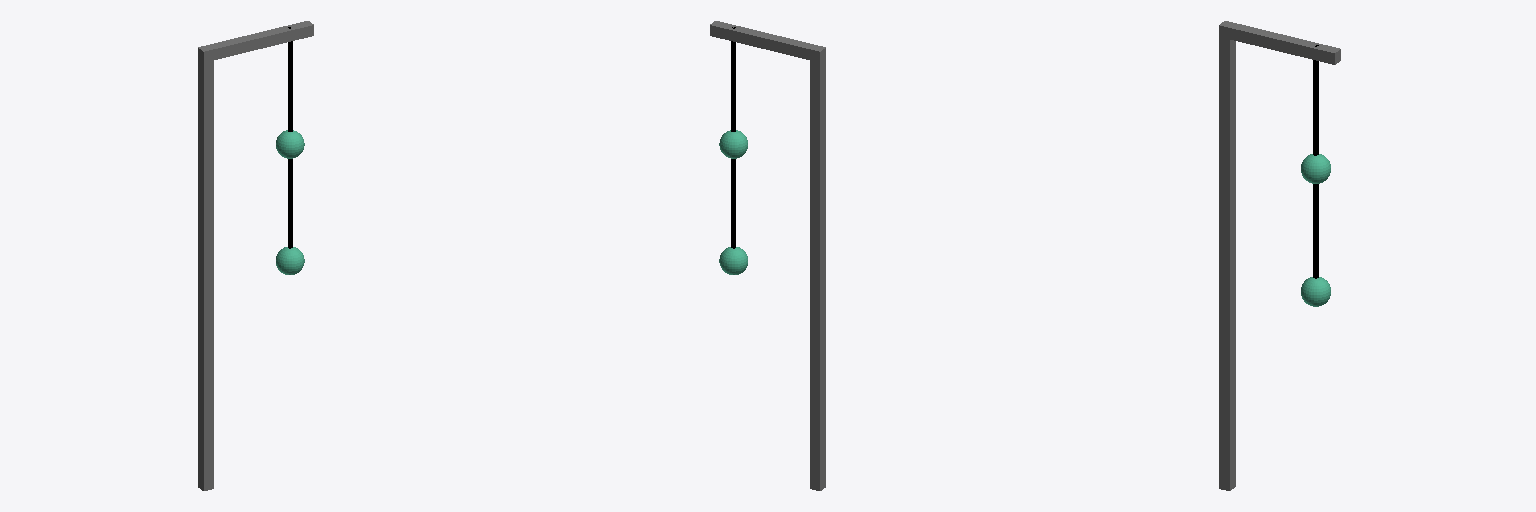
robot.urdf — camel_double_pendulum:
<?xml version="1.0" ?>
<robot name="camel_double_pendulum">

  <material name="black">
    <color rgba="0.0 0.0 0.0 1.0"/>
  </material>

  <material name="gray">
    <color rgba="0.5 0.5 0.5 1.0"/>
  </material>

  <material name="Aquamarine">
    <color rgba="0.364 0.733 0.608 1.0"/>
  </material>

  <material name="Aqua">
    <color rgba="0.0 0.733 0.733 1.0"/>
  </material>

  <link name="world"/>
  <joint name="fixed_world" type="fixed">
    <parent link="world"/>
    <child link="base"/>
  </joint>

  <link name="base">
    <visual>
      <origin rpy="0 0 0" xyz="0 0 0.5"/>
      <geometry>
        <box size="0.025 0.025 1.0"/>
      </geometry>
      <material name="gray"/>
    </visual>
    <visual>
      <origin rpy="0 0 0" xyz="0.125 0 0.9875"/>
      <geometry>
        <box size="0.25 0.025 0.025"/>
      </geometry>
      <material name="gray"/>
    </visual>

    <inertial>
      <mass value="10"/>
      <inertia ixx="1.0" ixy="0.0" ixz="0.0" iyy="1.0" iyz="0.0" izz="1.0"/>
    </inertial>
  </link>

  <joint name="top_roll" type="revolute">
    <origin rpy="0 0 0" xyz="0.2 0 1.0"/>
    <parent link="base"/>
    <child link="wire1"/>
    <axis xyz="1 0 0"/>
  </joint>

  <link name="wire1">
    <visual>
      <origin rpy="0 0 0" xyz="0 0 -0.125"/>
      <geometry>
        <box size="0.0075 0.0075 0.25"/>
      </geometry>
      <material name="black"/>
    </visual>
  </link>

  <joint name="fixed_ball1" type="fixed">
    <origin rpy="0 0 0" xyz="0 0 -0.265"/>
    <parent link="wire1"/>
    <child link="ball1"/>
  </joint>

  <link name="ball1">
    <visual>
    <origin rpy="0 0 0" xyz="0 0 0"/>
      <geometry>
        <sphere radius="0.03"/>
      </geometry>
      <material name="Aquamarine"/>
    </visual>

    <collision>
      <origin rpy="0 0 0" xyz="0 0 0"/>
      <geometry>
        <sphere radius="0.03"/>
      </geometry>
    </collision>

    <inertial>
      <mass value="0.5"/>
      <inertia ixx="1.0" ixy="0.0" ixz="0.0" iyy="1.0" iyz="0.0" izz="1.0"/>
    </inertial>
  </link>

  <joint name="bottom_roll" type="revolute">
    <origin rpy="0 0 0" xyz="0 0 0"/>
    <parent link="ball1"/>
    <child link="wire2"/>
    <axis xyz="1 0 0"/>
  </joint>

  <link name="wire2">
    <visual>
      <origin rpy="0 0 0" xyz="0 0 -0.125"/>
      <geometry>
        <box size="0.0075 0.0075 0.25"/>
      </geometry>
      <material name="black"/>
    </visual>
  </link>

  <joint name="fixed_ball2" type="fixed">
    <origin rpy="0 0 0" xyz="0 0 -0.265"/>
    <parent link="wire2"/>
    <child link="ball2"/>
  </joint>

  <link name="ball2">
    <visual>
    <origin rpy="0 0 0" xyz="0 0 0"/>
      <geometry>
        <sphere radius="0.03"/>
      </geometry>
      <material name="Aquamarine"/>
    </visual>

    <collision>
      <origin rpy="0 0 0" xyz="0 0 0"/>
      <geometry>
        <sphere radius="0.03"/>
      </geometry>
    </collision>

    <inertial>
      <mass value="0.5"/>
      <inertia ixx="1.0" ixy="0.0" ixz="0.0" iyy="1.0" iyz="0.0" izz="1.0"/>
    </inertial>
  </link>
  
</robot>

--- Render facts (derived) ---
Views: 3 orthographic renders of the robot side by side, from view 1: azimuth 30°, elevation 25°; view 2: azimuth 150°, elevation 25°; view 3: azimuth 330°, elevation 25°.
Model camel_double_pendulum with 6 links and 5 joints (2 revolute, 3 fixed), rooted at world, posed all joints at 0.
Visible links, largest first — view 1: base, ball2, ball1; view 2: base, ball2, ball1; view 3: base, ball2, ball1, wire1, wire2.
Link boxes in pixels (x1,y1,x2,y2): base: (198,21,313,490); ball2: (276,247,304,274); ball1: (276,130,304,158); base: (710,21,825,490); ball2: (719,247,747,274); ball1: (719,130,747,158); base: (1219,21,1340,490); ball2: (1301,277,1330,306); ball1: (1301,154,1330,183); wire1: (1313,45,1318,155); wire2: (1313,184,1318,278).
Size in the robot's own frame: 0.2625 by 0.06 by 1 metres.
Geometry: primitives only (box / cylinder / sphere), no mesh files.